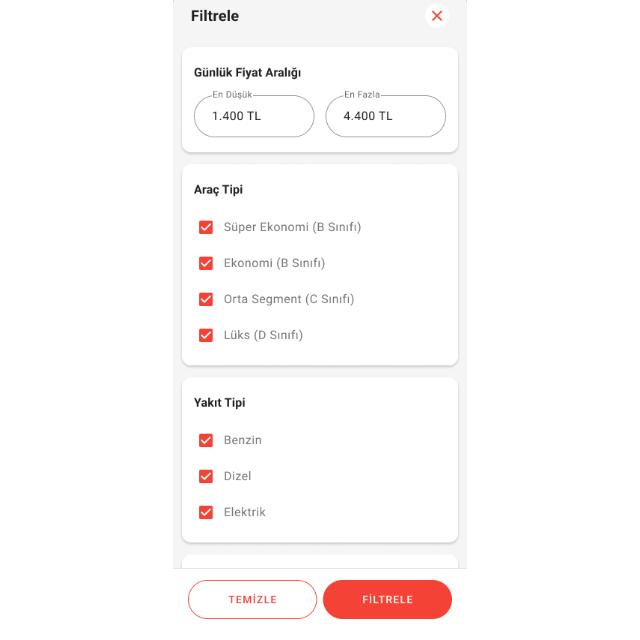QLabel: (224, 292, 356, 306), (222, 222, 362, 234), (191, 67, 305, 79), (223, 327, 304, 343), (222, 258, 326, 270), (192, 394, 248, 412), (192, 181, 244, 197), (190, 8, 240, 22), (359, 594, 417, 606), (226, 594, 280, 606), (222, 505, 266, 519), (224, 434, 262, 446), (222, 471, 252, 482)
VBtn: (186, 580, 318, 620), (324, 580, 454, 620)
VCard: (180, 164, 462, 368), (177, 374, 463, 546), (180, 46, 462, 154)
VCheckbox: (196, 466, 216, 486), (197, 218, 215, 238), (197, 503, 216, 521), (196, 431, 214, 449), (197, 327, 216, 343), (196, 291, 214, 307), (198, 255, 215, 271)
VFooter: (173, 568, 467, 640)
VIcon: (425, 3, 451, 29)
VTextField: (194, 90, 316, 140), (326, 90, 448, 138)
